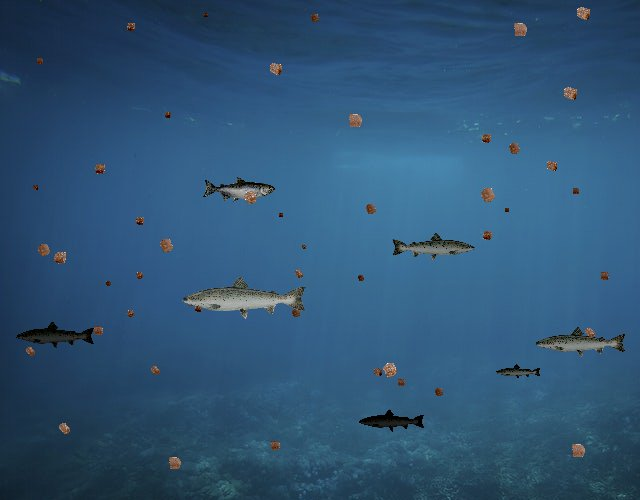Fish: (180, 274, 309, 320), (535, 326, 629, 360), (390, 231, 476, 262), (15, 320, 96, 349), (202, 176, 275, 202), (358, 408, 426, 433), (495, 363, 542, 380)
Pellet: (236, 183, 264, 211), (262, 55, 289, 82), (52, 416, 77, 441), (29, 182, 41, 194)
